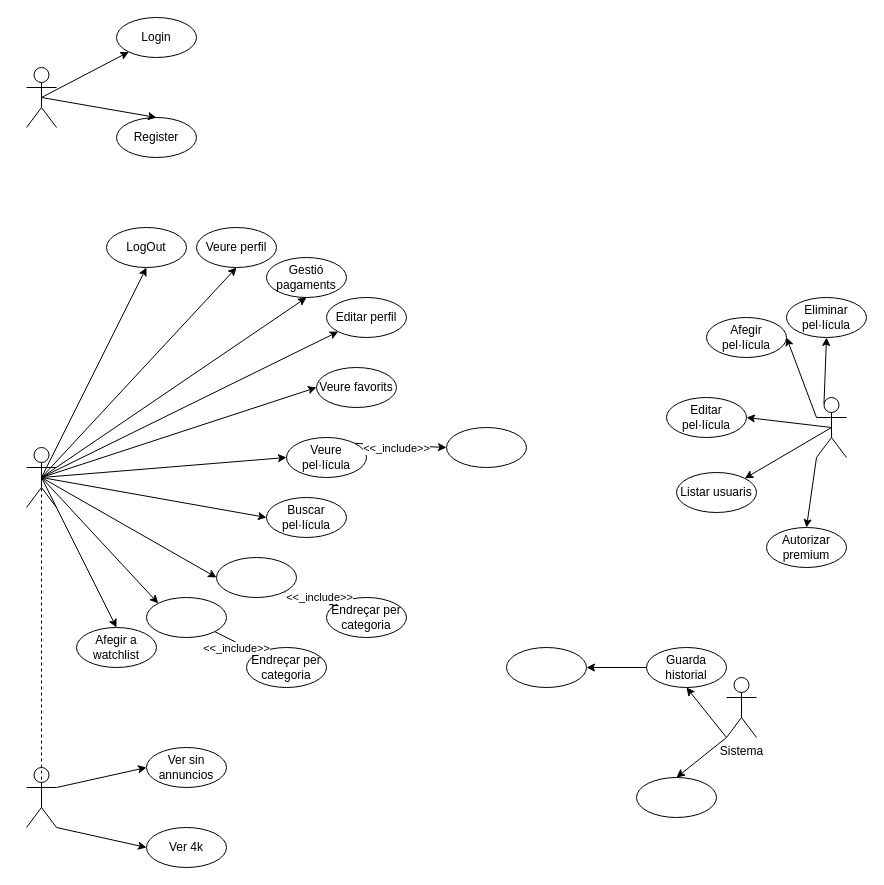
Some shapes in this 884 by 885 pixel diagram are drawn without their labels. Each missing label, with the centre of its shape:
"Admin" goes at [831,427].
"Afegir pel·lícula a favorits" goes at [486,447].
"Enviar correu confirmació" goes at [676,797].
"Guest" goes at [41,97].
"Listar pel·lícules" goes at [186,617].
"Listar series" goes at [256,577].
"Logged" goes at [41,477].
"Premium" goes at [41,797].
"Recomana pel·ícules" goes at [546,667].
